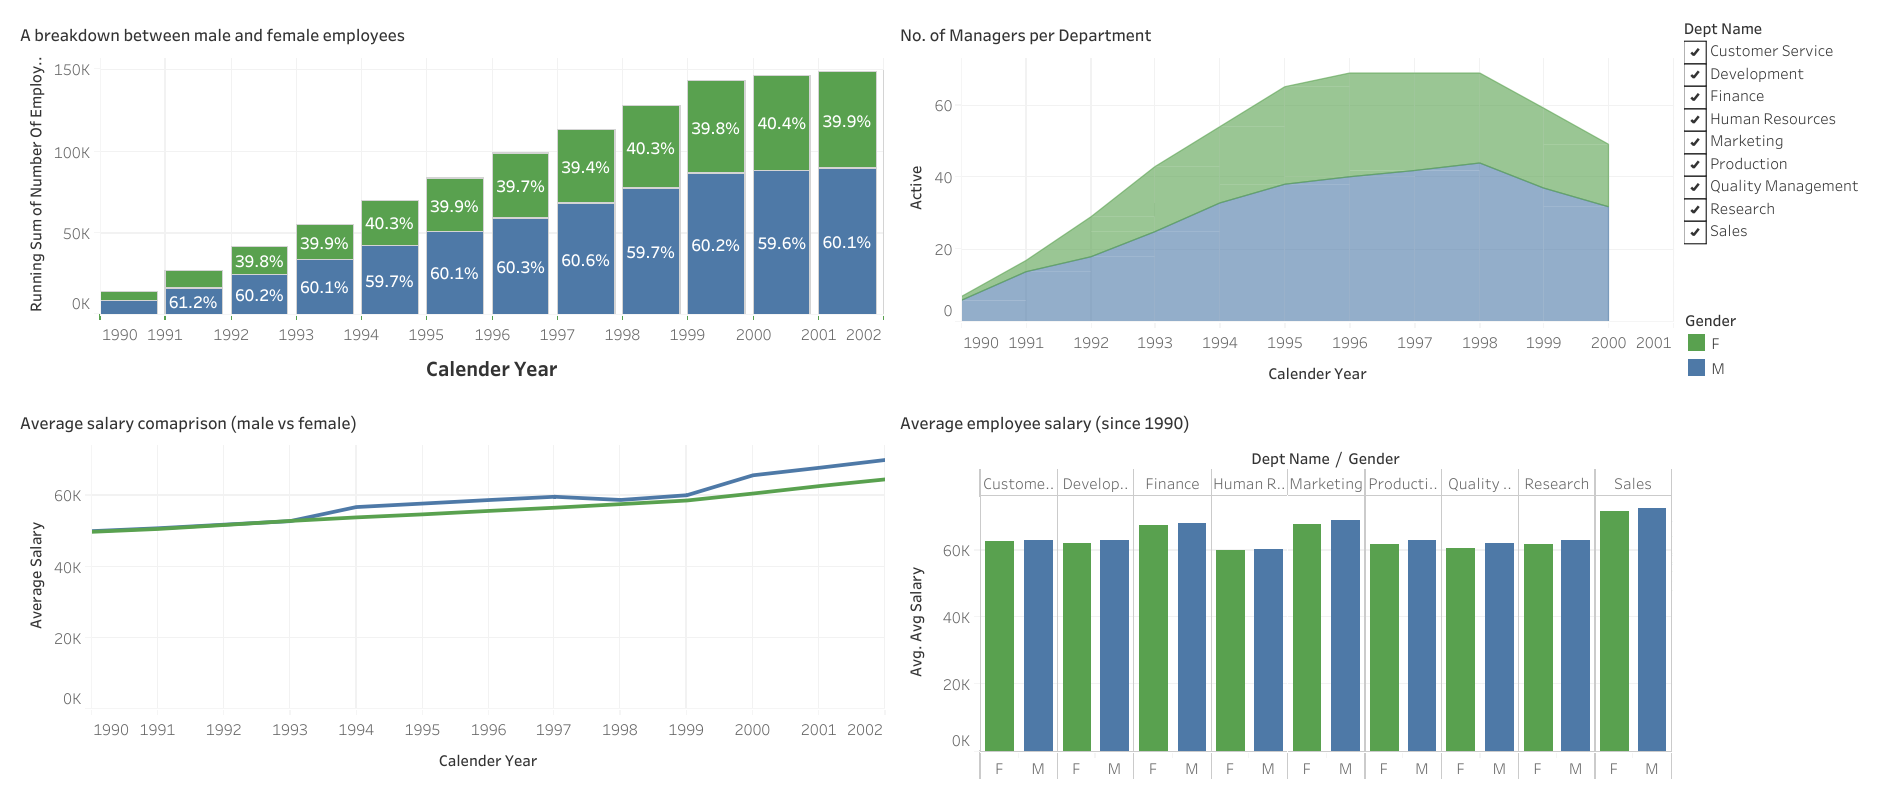

Layout of this report page (visuals, bound fields, positions):
{"tool":"tableau","page":{"name":"Dashboard 1","canvas":[1000,1000],"units":"permille","ordinal":0},"visuals":[{"type":"worksheet","title":"Chart 1","mark":"Bar","rows":["number_of_employees"],"cols":["Calender_Year"],"box":[4.8,9.3,473.2,491.3]},{"type":"worksheet","title":"Chart 2","mark":"Area","rows":["Active"],"cols":["calender_year"],"box":[478.1,9.3,424.2,490.7]},{"type":"filter","title":"Chart 3","param":"[federated.1bay2ba0inwqcb18s51eh0tc8qrf].[none:dept_name:nk]","box":[902.2,9.3,92.9,308.9]},{"type":"legend","title":"Chart 3","param":"[federated.1bay2ba0inwqcb18s51eh0tc8qrf].[none:gender:nk]","box":[902.2,318.2,92.9,83.6]},{"type":"worksheet","title":"Chart 4","mark":"Automatic","rows":["avg_salary"],"cols":["dept_name","gender"],"box":[478.1,500,424.2,490.7]},{"type":"worksheet","title":"Chart 3","mark":"Automatic","rows":["Avg_Salary"],"cols":["Calender_Year"],"box":[4.8,500.6,473.2,490.1]}]}

Visuals, with their boxes on the dashboard's canvas, which has no fixed pixel size, in thousandths of its width and height (x1, y1, x2, y2). These are canvas units, not pixel positions in the 1880x794 screenshot, which may show the page scaled, cropped or inside an application window:
"Chart 1" worksheet (Bar marks): box(5, 9, 478, 501)
"Chart 2" worksheet (Area marks): box(478, 9, 902, 500)
"Chart 3" filter: box(902, 9, 995, 318)
"Chart 3" legend: box(902, 318, 995, 402)
"Chart 4" worksheet: box(478, 500, 902, 991)
"Chart 3" worksheet: box(5, 501, 478, 991)
